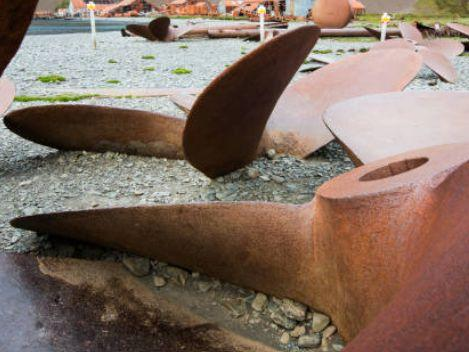metal: (18, 144, 458, 343), (12, 24, 430, 171), (370, 37, 464, 83)
